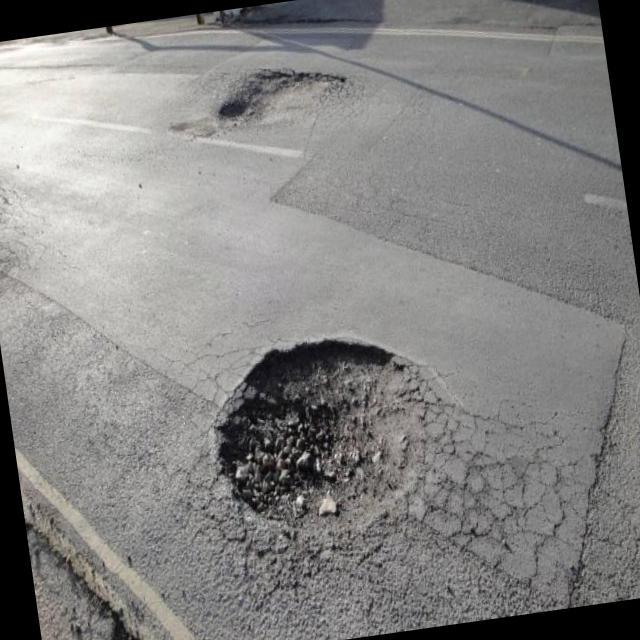Pothole: (214, 340, 438, 588), (203, 68, 346, 136)
